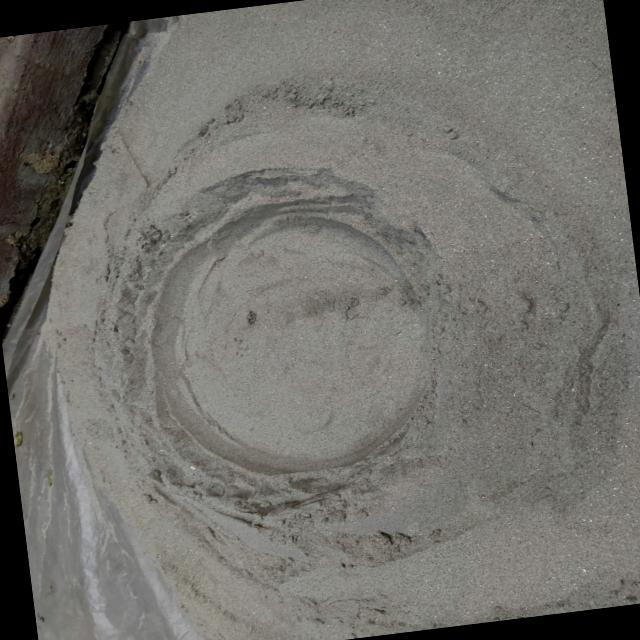C40: (149, 207, 429, 475)
